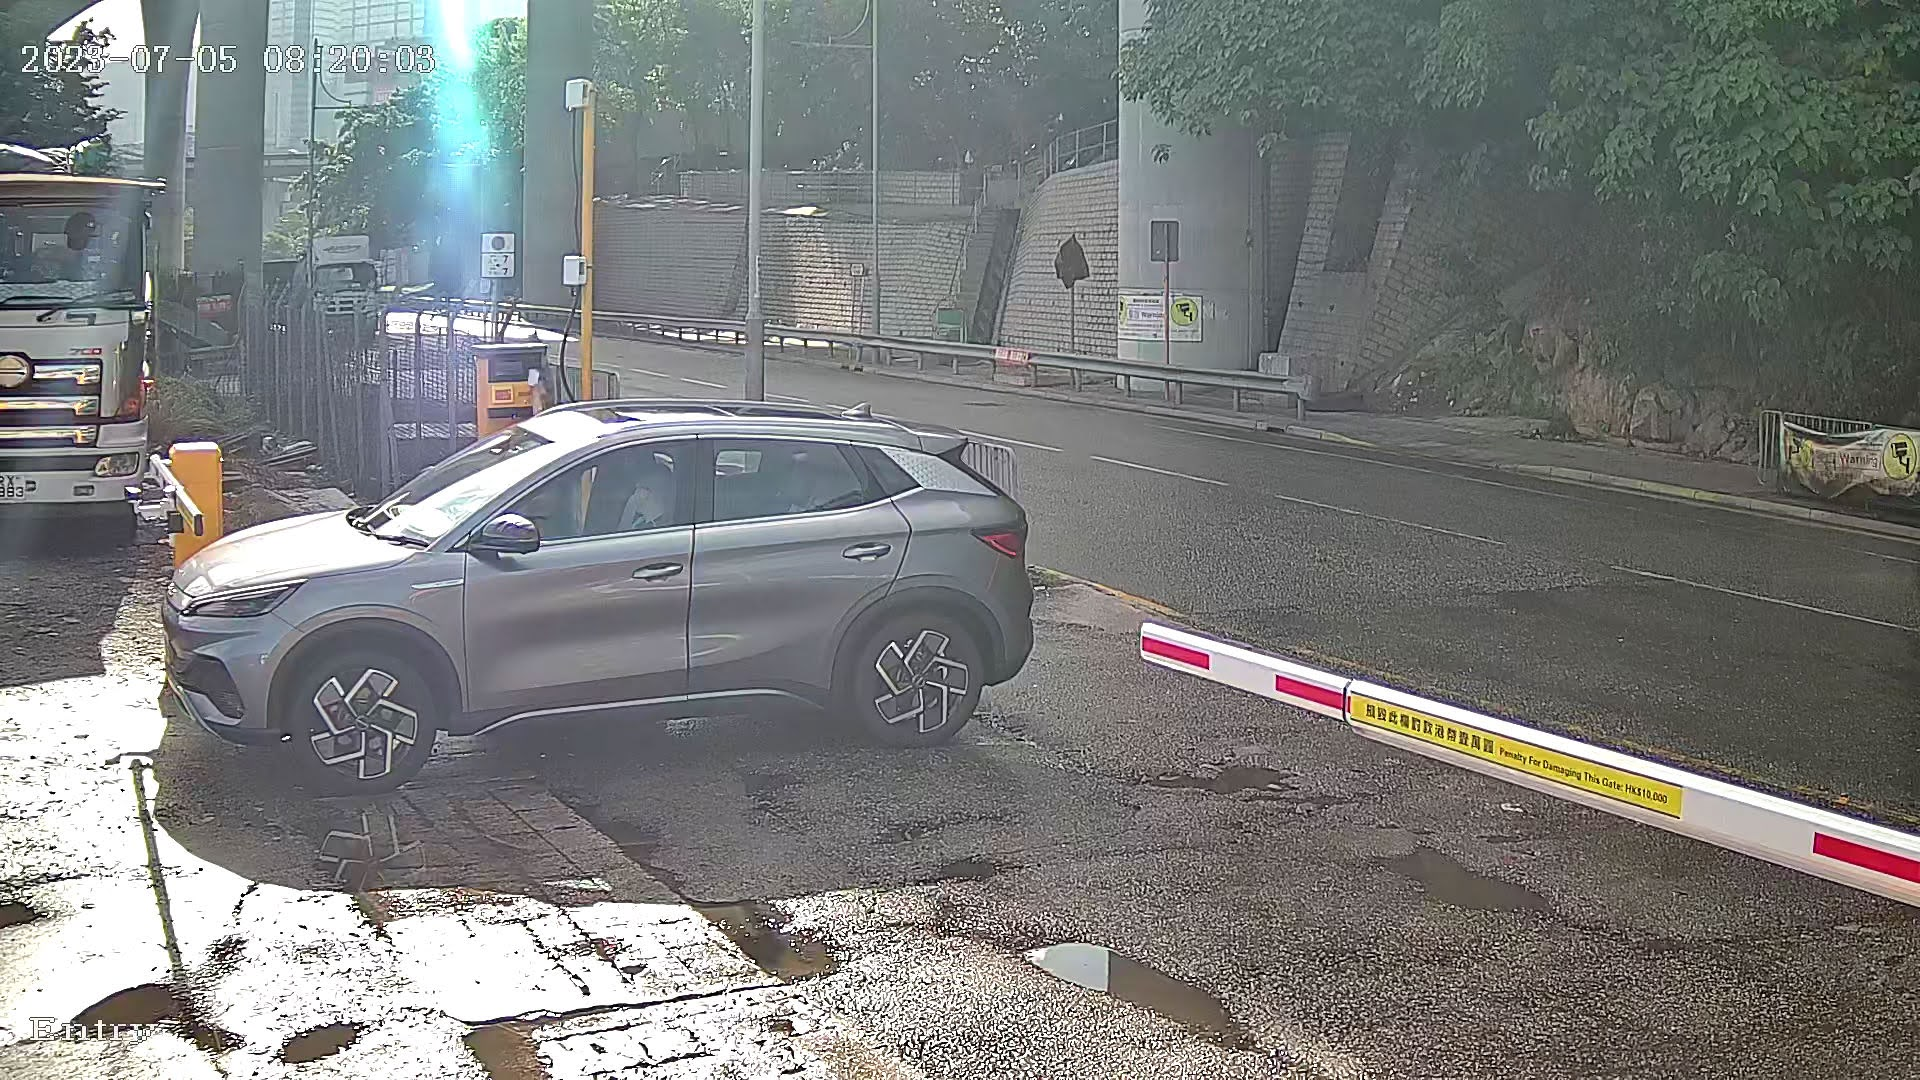privatecar: (109, 349, 1055, 815)
